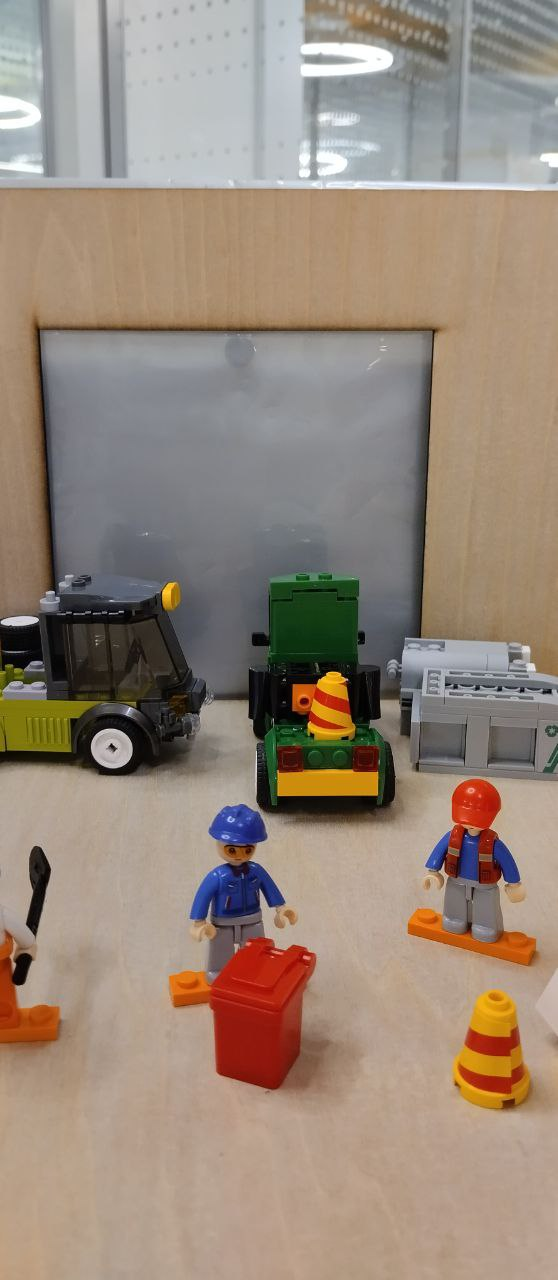Cone: (459, 991, 532, 1112), (296, 668, 355, 739)
Crane: (0, 570, 215, 778)
Object Black: (247, 663, 379, 730)
Object Red: (213, 939, 315, 1091)
Truck: (248, 570, 400, 812)
